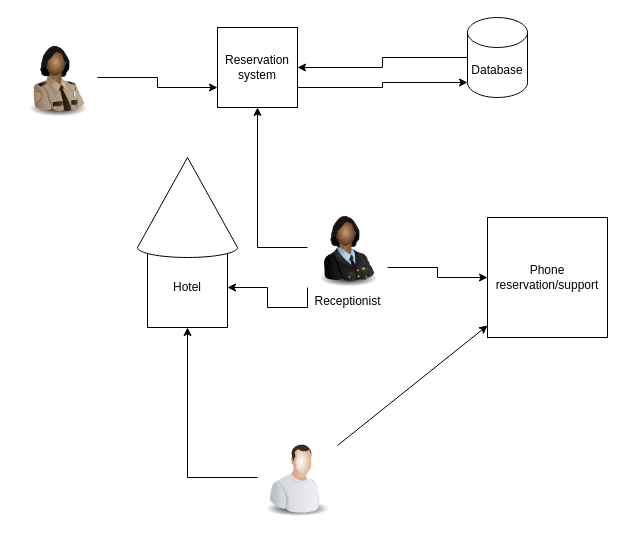
Some shapes in this 625 by 556 pixel diagram are drawn without their labels. Each missing label, with the centre of its shape:
Cleaner: the point at 57,77
Customer: the point at 297,477
